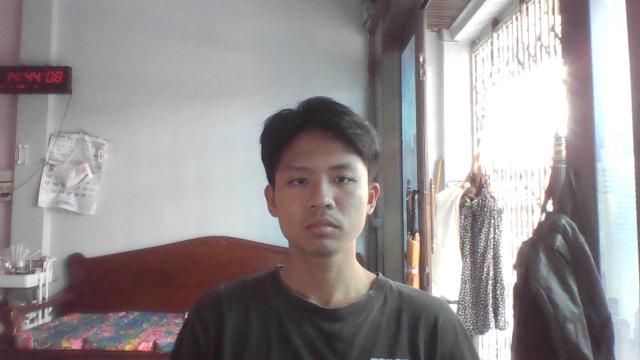fokus: (270, 121, 368, 255)
